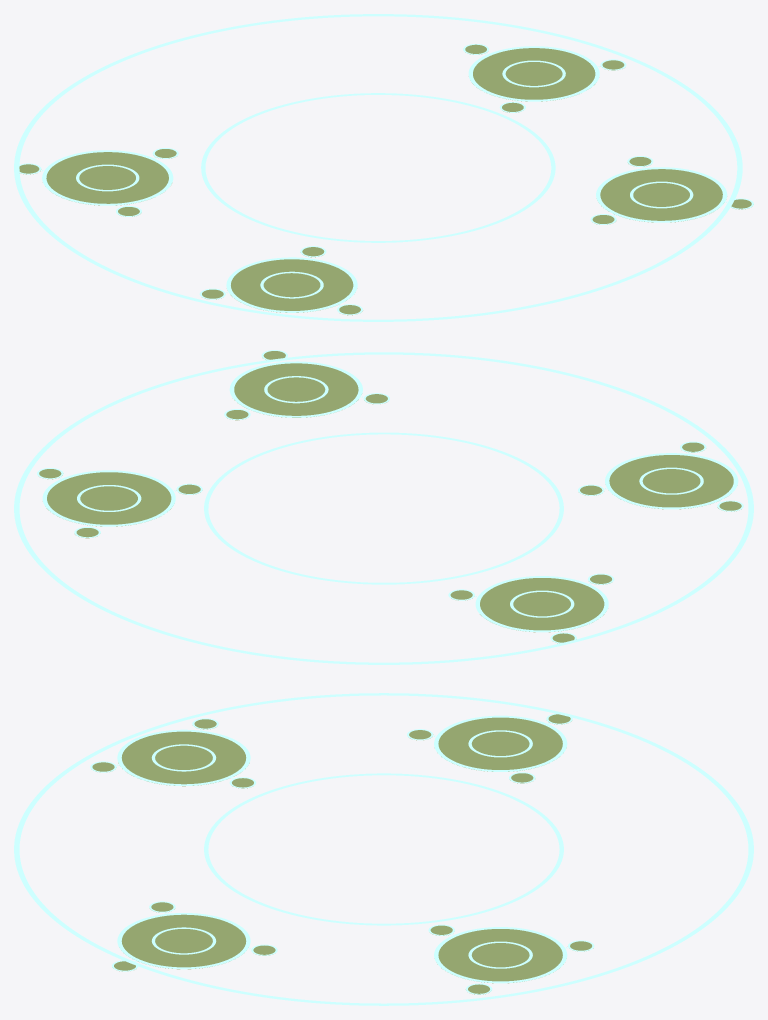
File: plaza.glb
The picture shows the model from 3 angles, top to bottom: view 1: azimuth 30°, elevation 25°; view 2: azimuth 150°, elevation 25°; view 3: azimuth 270°, elevation 25°; orthographic projection.
Parts seen in each view (by area): view 1: CropFlat, CropGlow; view 2: CropFlat, CropGlow; view 3: CropFlat, CropGlow.
Boxes of the visible parts, left/top/right/bottom form: CropFlat: left=19, top=44, right=751, bottom=315; CropGlow: left=14, top=14, right=753, bottom=321; CropFlat: left=39, top=351, right=741, bottom=643; CropGlow: left=14, top=350, right=753, bottom=664; CropFlat: left=92, top=714, right=593, bottom=994; CropGlow: left=14, top=693, right=753, bottom=1005.
Size of what is drawn, in the model's own units: 66.6 by 0.01 by 66.6.
